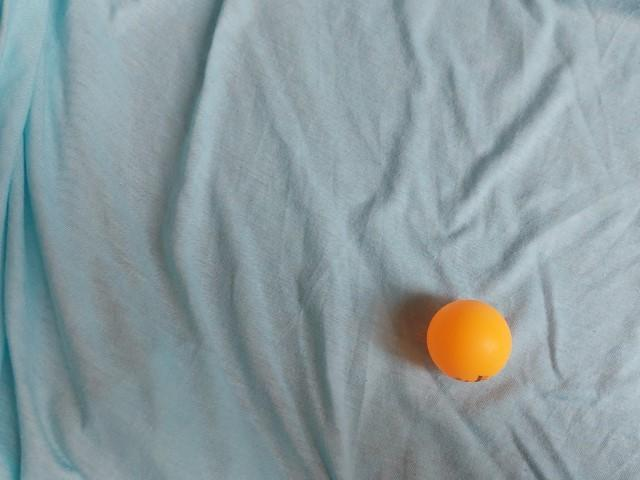oball: (421, 292, 519, 389)
